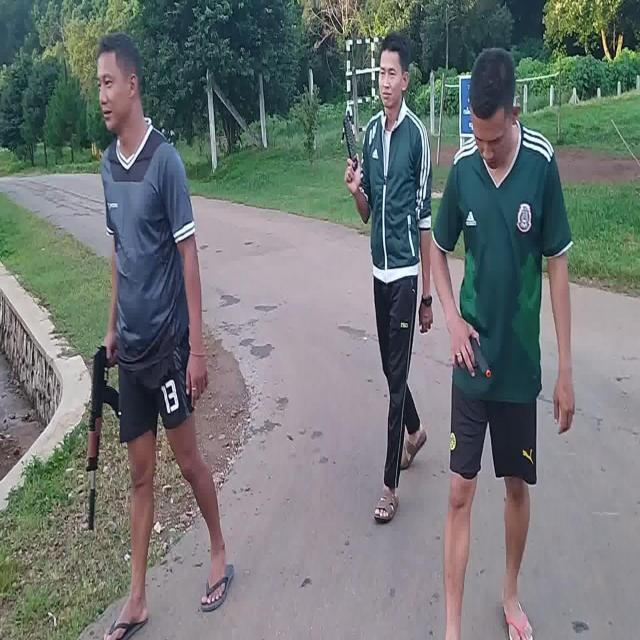gun: (89, 345, 119, 531), (456, 337, 492, 379)
